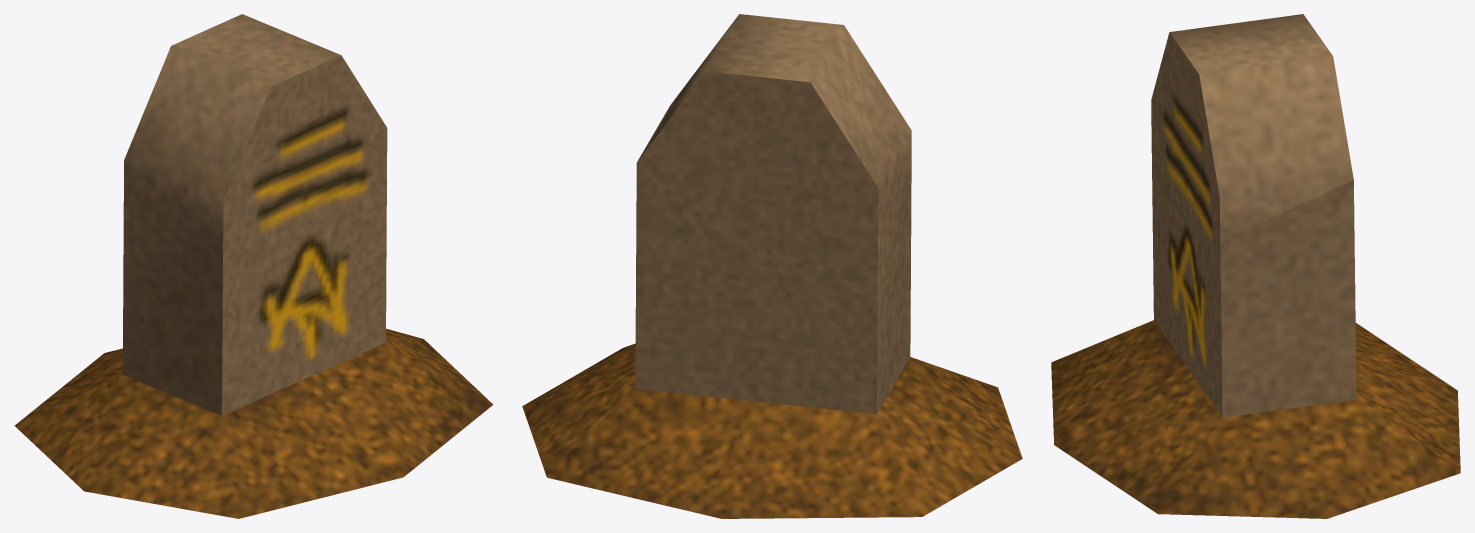
Rendered from grave2.gltf.
3 views of the same model, side by side, from view 1: azimuth 30°, elevation 25°; view 2: azimuth 150°, elevation 25°; view 3: azimuth 270°, elevation 25° (orthographic). The views are drawn at different scales.
Visible parts, largest first — view 1: something; view 2: something; view 3: something.
Boxes of the visible parts, x1,y1,x2,y2 form: something: (14, 14, 493, 518); something: (522, 14, 1022, 518); something: (1051, 14, 1460, 518).
Bounding box in the file's own units: 0.8407 × 0.7245 × 0.7141.
Materials: 1 (1 with a texture image).
